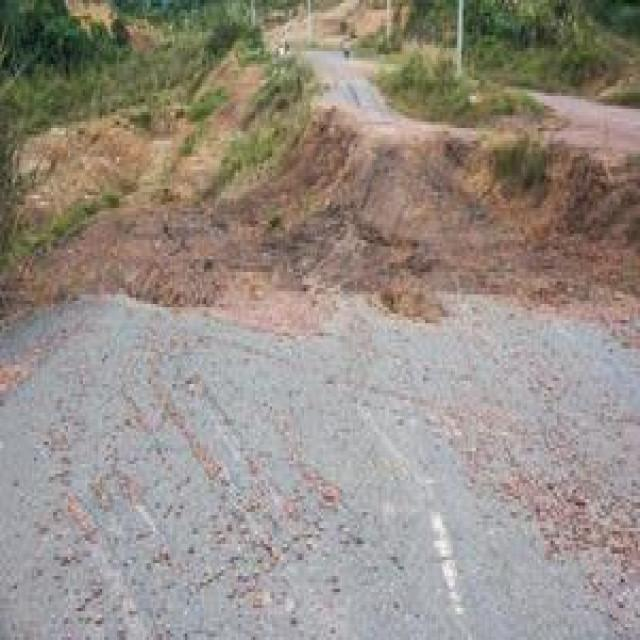road collapse: (15, 26, 640, 442)
